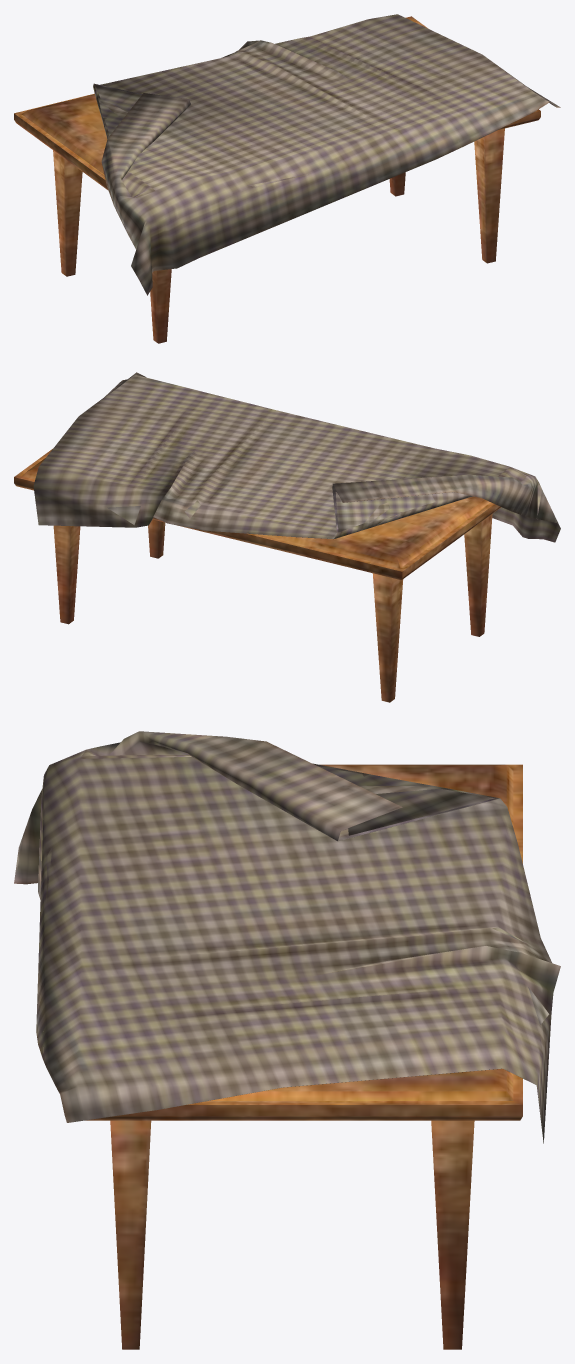
The model's file is dining_table.glb.
3 renders of one model, top to bottom at view 1: azimuth 30°, elevation 25°; view 2: azimuth 150°, elevation 25°; view 3: azimuth 270°, elevation 25°, orthographic. The views are drawn at different scales.
Parts seen in each view (by area): view 1: dining_table; view 2: dining_table; view 3: dining_table.
Boxes of the visible parts, x1=… form: dining_table: x1=14, y1=14, x2=560, y2=343; dining_table: x1=14, y1=372, x2=560, y2=702; dining_table: x1=14, y1=731, x2=560, y2=1349.
Size of the model in its own units: 2.26 by 0.877 by 1.39.
Materials: 1 (1 with a texture image).
